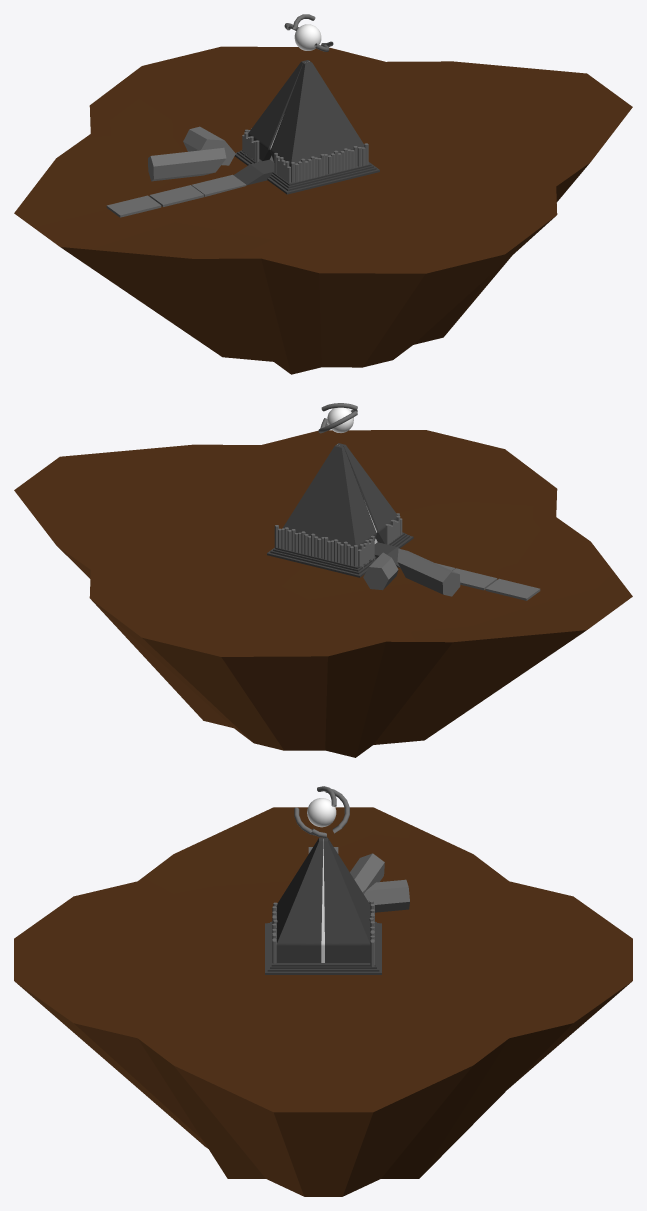
File: island.fbx
3 renders of one model, top to bottom at view 1: azimuth 30°, elevation 25°; view 2: azimuth 150°, elevation 25°; view 3: azimuth 270°, elevation 25°, orthographic. The views are drawn at different scales.
Parts seen in each view (by area): view 1: pPlane4, polySurface76, polySurface73, polySurface74, pCube9, pCube8, polySurface84, pCube7, polySurface5, polySurface80; view 2: pPlane4, polySurface76, polySurface73, polySurface74, pCube9, pCube8; view 3: pPlane4, polySurface76, polySurface74, polySurface73, polySurface80, polySurface5, polySurface79.
Boxes of the visible parts, box(x1,y1,x2,y2) form: pPlane4: box(14, 46, 632, 374); polySurface76: box(248, 60, 364, 166); polySurface73: box(148, 147, 226, 181); polySurface74: box(183, 126, 235, 165); pCube9: box(106, 195, 161, 217); pCube8: box(149, 185, 204, 206); polySurface84: box(233, 159, 274, 185); pCube7: box(191, 174, 246, 196); polySurface5: box(294, 24, 321, 50); polySurface80: box(235, 152, 379, 194); pPlane4: box(14, 430, 632, 757); polySurface76: box(283, 443, 397, 549); polySurface73: box(397, 548, 460, 596); polySurface74: box(363, 552, 398, 590); pCube9: box(485, 578, 540, 600); pCube8: box(453, 568, 497, 590); pPlane4: box(14, 807, 632, 1196); polySurface76: box(276, 837, 370, 962); polySurface74: box(364, 879, 409, 912); polySurface73: box(350, 853, 384, 894); polySurface80: box(265, 923, 381, 974); polySurface5: box(307, 798, 336, 827); polySurface79: box(267, 923, 379, 971).
Size of the model in its own units: 193 by 100 by 165.
